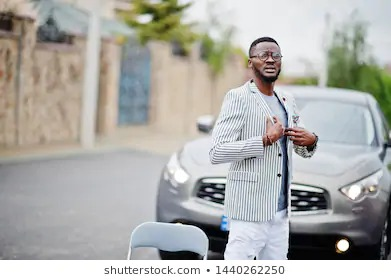F_M_suit jacket: (207, 74, 318, 228)
